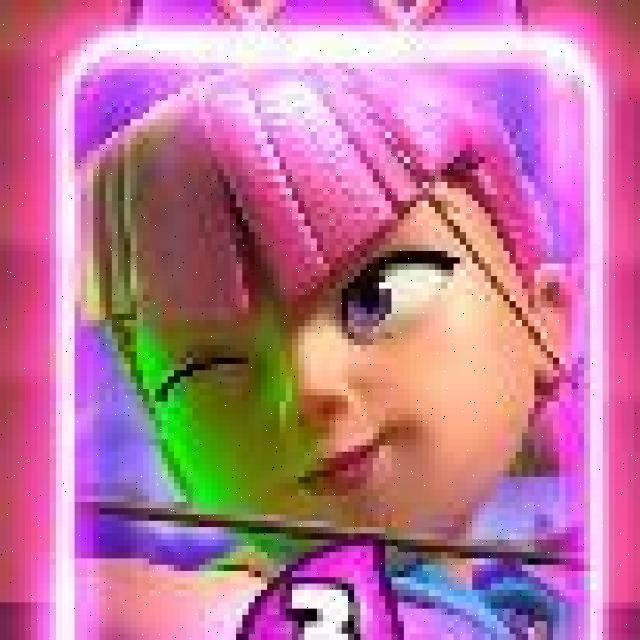Evolved_Archers: (45, 17, 616, 640)
